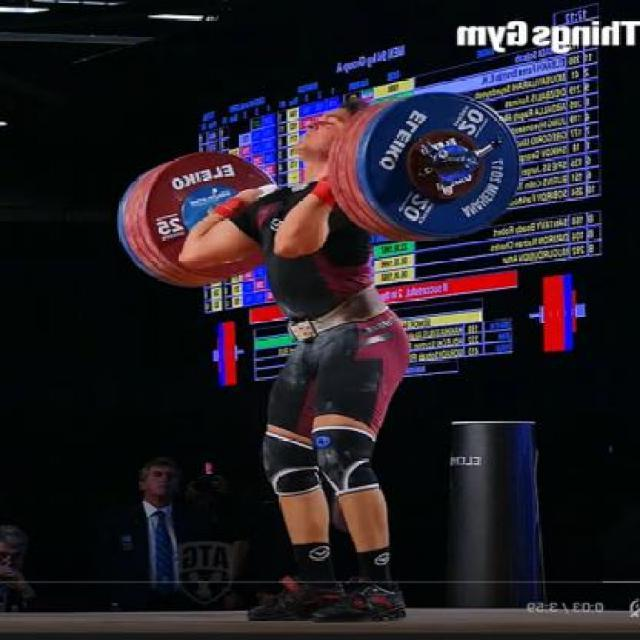Barbell: (406, 139, 499, 198)
